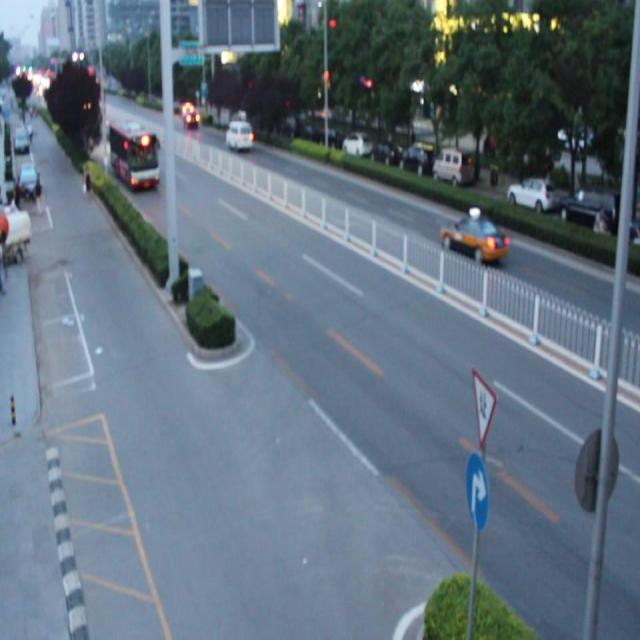car: (438, 209, 508, 264)
truck: (225, 120, 252, 151)
van: (108, 117, 158, 190)
